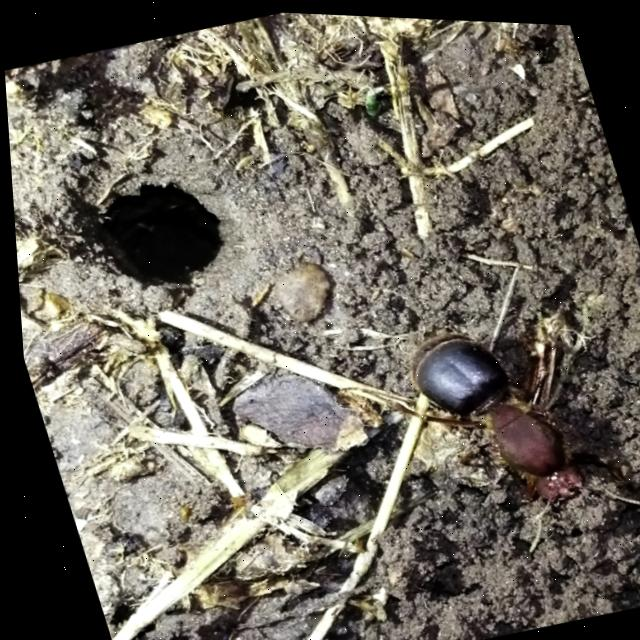Alive-Female-Dealate: (317, 287, 640, 587)
